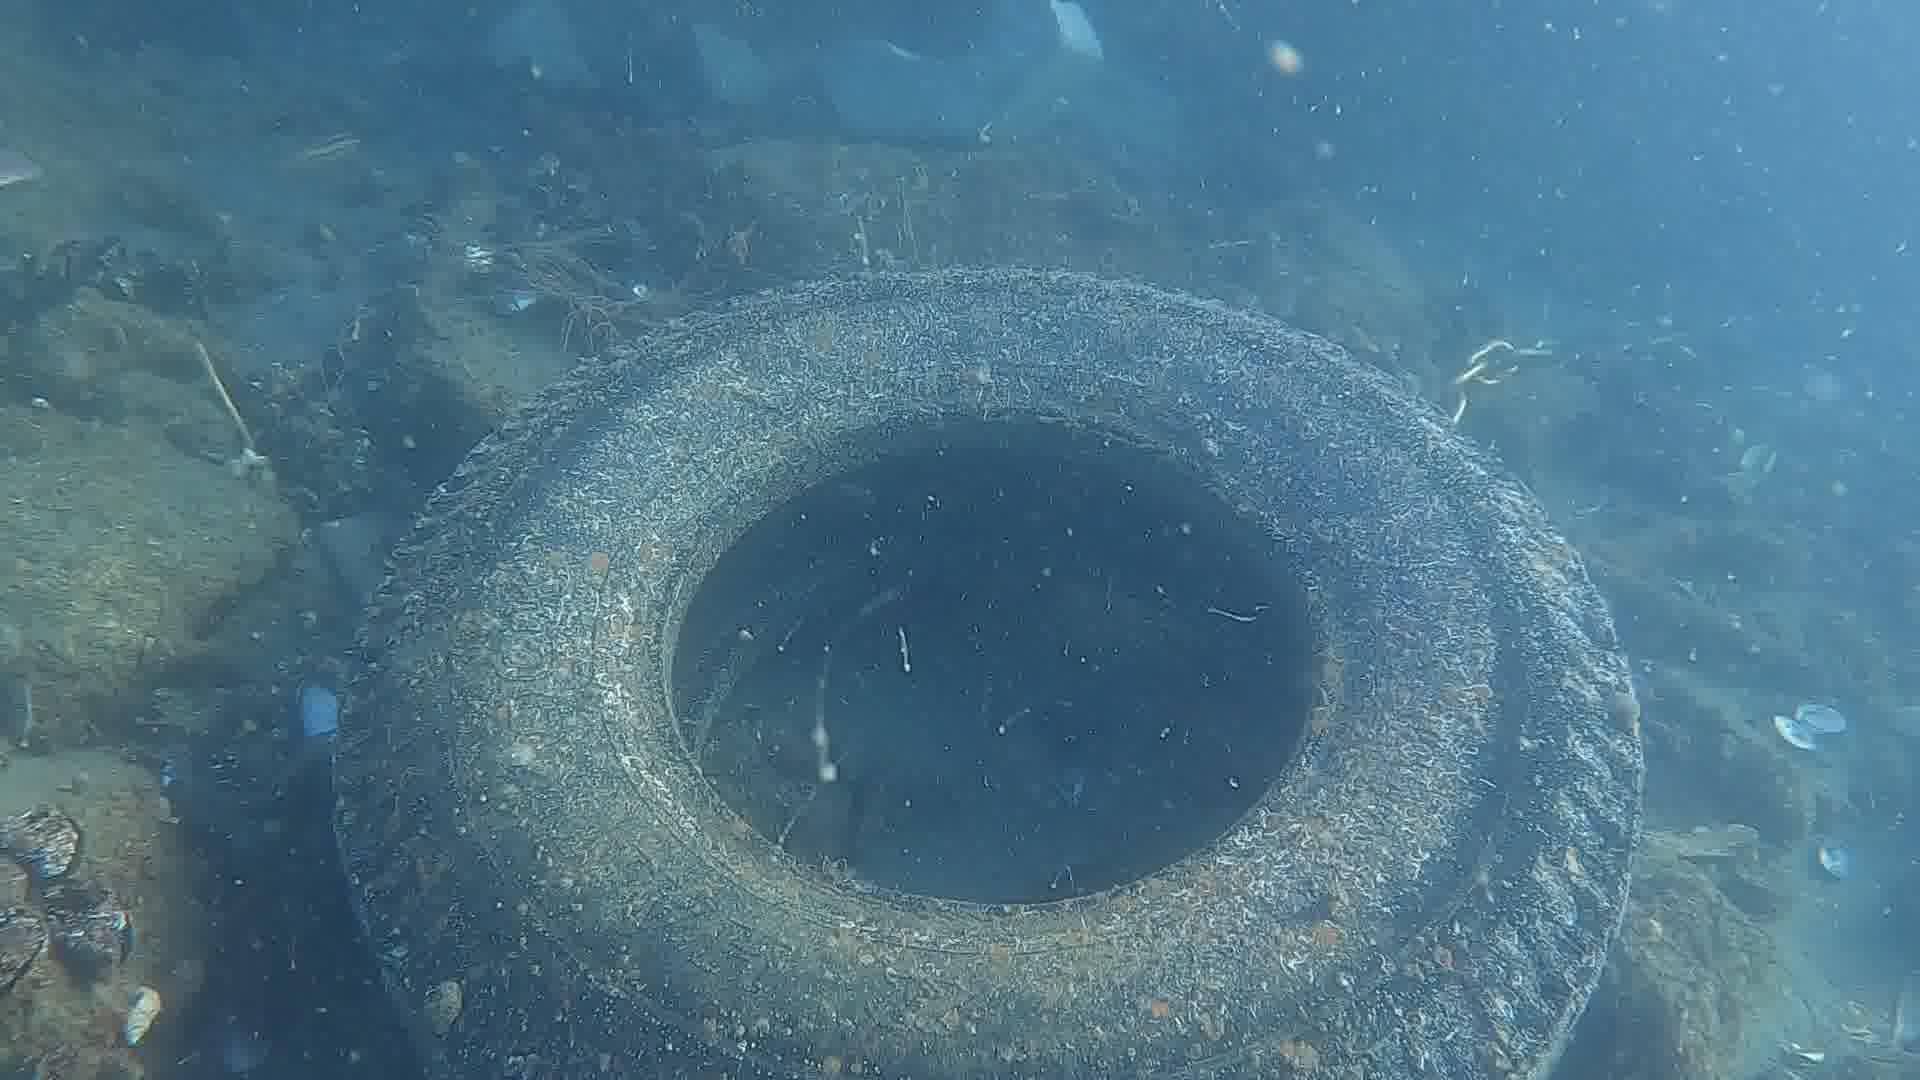tire: (323, 266, 1648, 1080)
